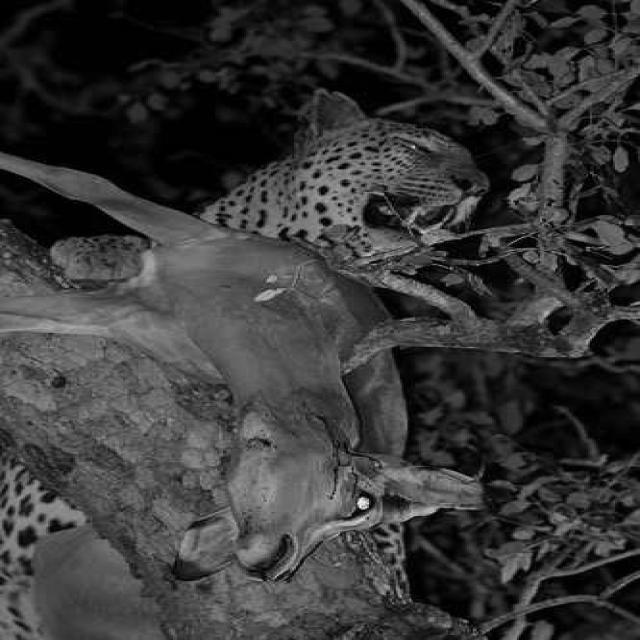Leopard: (264, 63, 512, 310)
